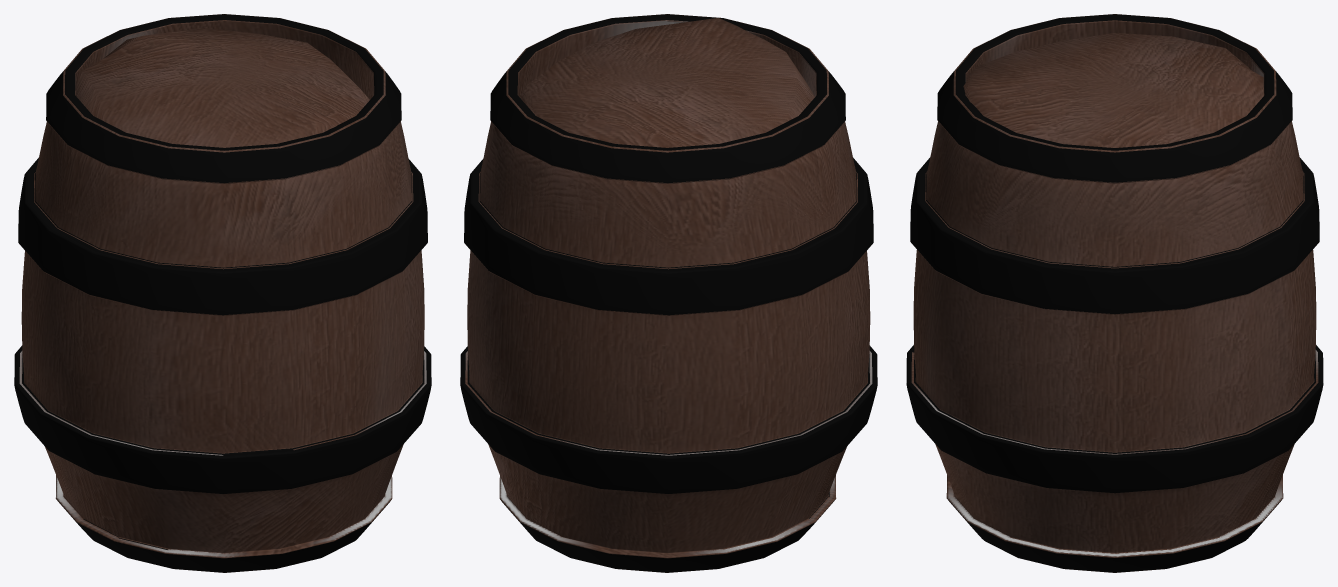
The model's file is Barrel.fbx.
3 renders of one model, left to right at view 1: azimuth 30°, elevation 25°; view 2: azimuth 150°, elevation 25°; view 3: azimuth 270°, elevation 25°, orthographic.
Visible parts, largest first — view 1: pPrism1; view 2: pPrism1; view 3: pPrism1.
Part boxes in pixels (x1=…): pPrism1: x1=14, y1=14, x2=431, y2=572; pPrism1: x1=460, y1=14, x2=877, y2=572; pPrism1: x1=906, y1=14, x2=1323, y2=572.
Bounding box in the file's own units: 1.16 × 1.31 × 1.14.
2 materials, 1 textured.
